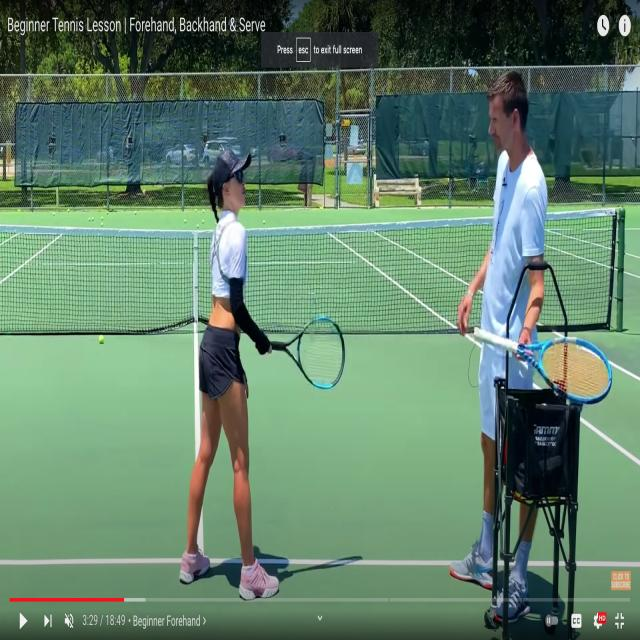ball: (99, 335, 104, 344), (262, 220, 266, 225), (196, 224, 200, 229), (201, 219, 205, 224), (100, 216, 104, 221), (100, 222, 104, 227), (52, 212, 56, 217), (134, 210, 137, 216), (195, 208, 198, 213), (88, 217, 91, 222), (67, 208, 70, 213), (17, 208, 20, 213), (184, 218, 186, 225), (202, 209, 205, 213), (106, 211, 109, 215), (92, 217, 94, 222)
